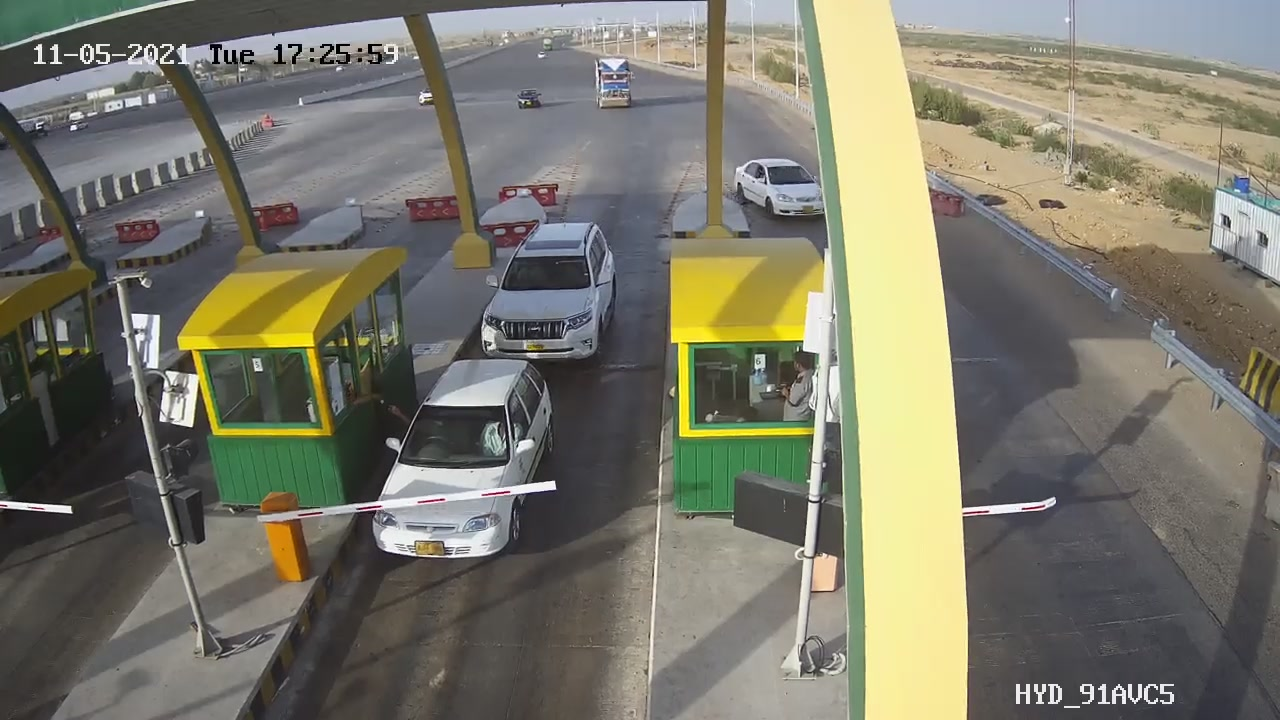F1: (356, 344, 585, 574), (468, 207, 630, 382)
